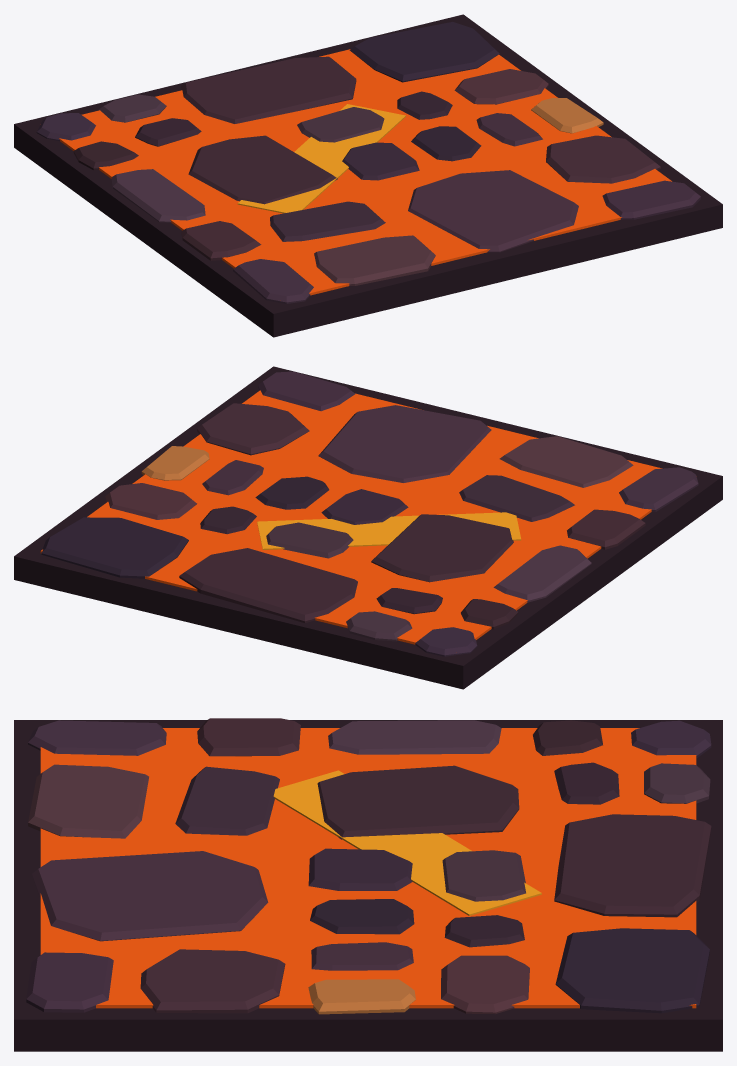
Rendered from floor_c.fbx.
The picture shows the model from 3 angles, top to bottom: view 1: azimuth 30°, elevation 25°; view 2: azimuth 150°, elevation 25°; view 3: azimuth 270°, elevation 25°; orthographic projection. The views are drawn at different scales.
Visible parts, largest first — view 1: floor_c; view 2: floor_c; view 3: floor_c.
Part boxes in pixels (<box>): floor_c: <box>14,14,722,337</box>; floor_c: <box>14,366,722,689</box>; floor_c: <box>14,718,722,1051</box>.
Size of the model in its own units: 4 by 0.27 by 4.
